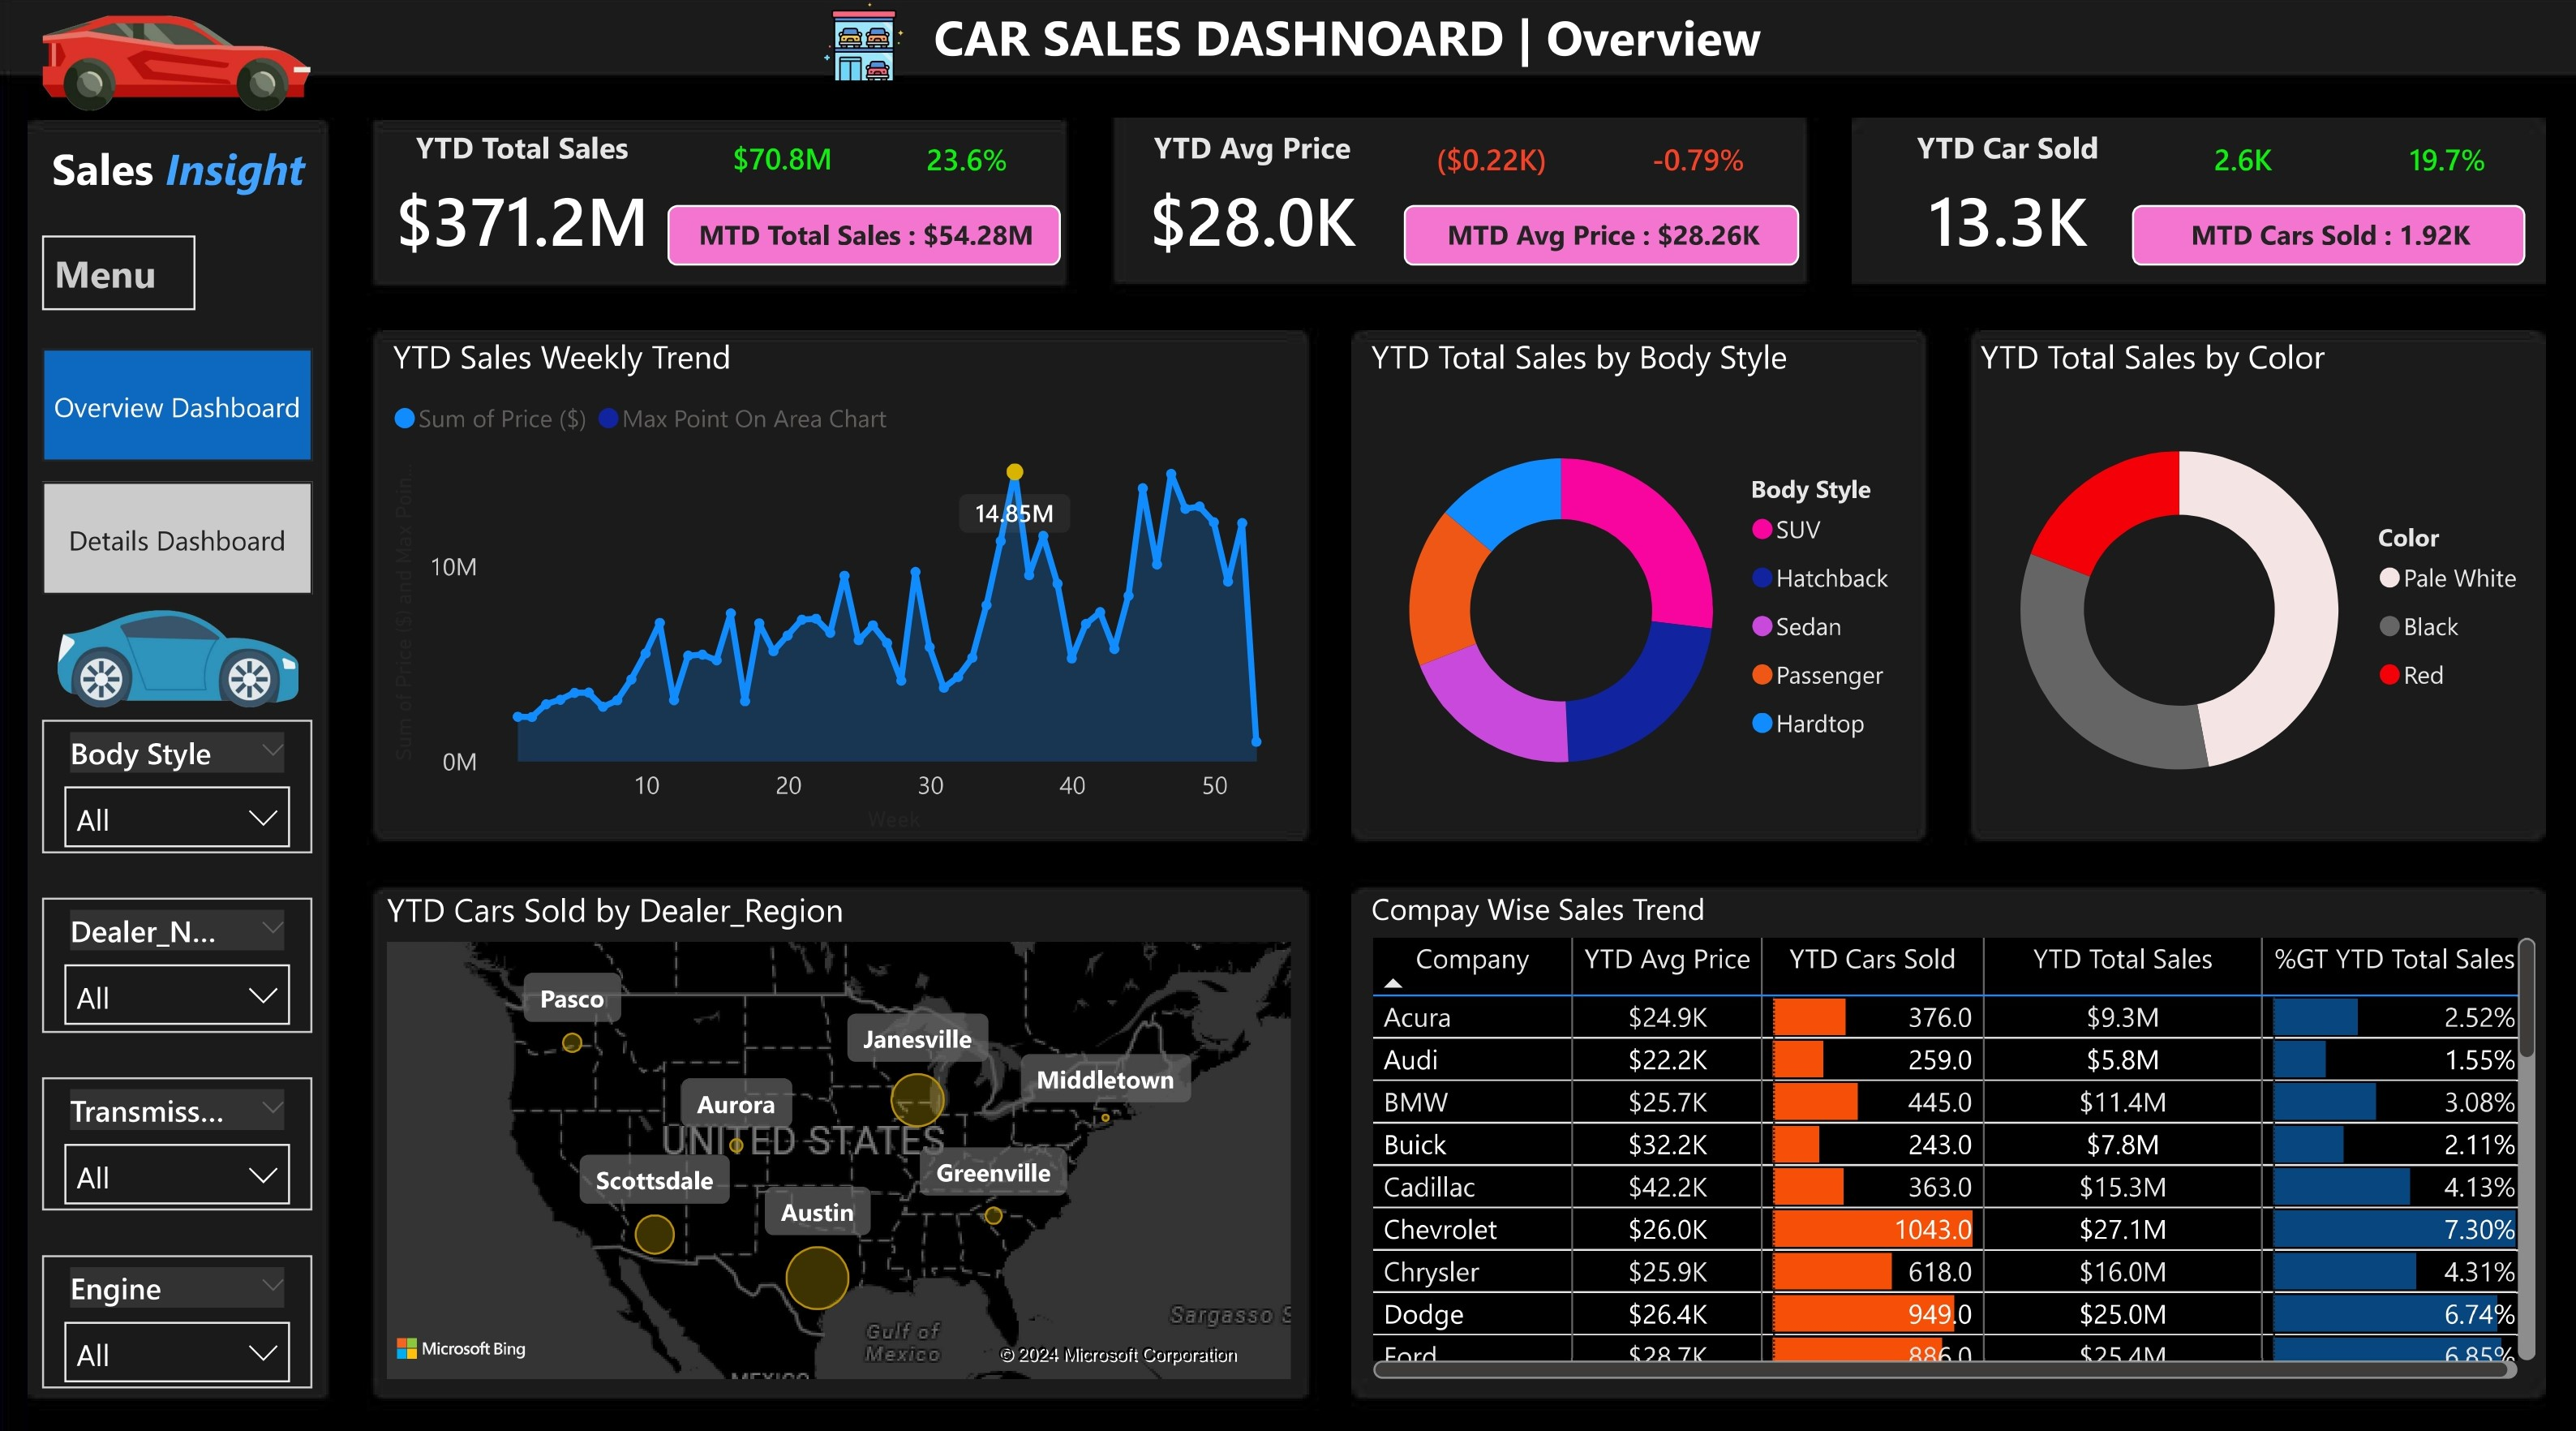

Layout of this report page (visuals, bound fields, positions):
{"tool":"powerbi","page":{"name":"Overview Dashboard","canvas":[1280,720],"ordinal":0},"visuals":[{"type":"card","title":"YTD Total Sales","fields":{"Values":["car_data.YTD Total Sales"]},"box":[188.7,66,144.2,72.8],"z":0},{"type":"card","fields":{"Values":["car_data.Sales Difference"]},"box":[346.3,66,87.6,36.4],"z":1000},{"type":"card","fields":{"Values":["car_data.YoY Sales Growth"]},"box":[442.6,66.3,77.2,36.2],"z":2000},{"type":"card","fields":{"Values":["car_data.MTD KPI"]},"box":[332.9,105.1,195.4,29.6],"z":3000},{"type":"card","title":"YTD Avg Price","fields":{"Values":["car_data.YTD Avg Price"]},"box":[551.2,66,144.2,72.8],"z":4000},{"type":"card","fields":{"Values":["car_data.Avg Price Diff"]},"box":[698.3,66.3,86.8,36.2],"z":5000},{"type":"card","fields":{"Values":["car_data.YoY Avg Price Growth"]},"box":[802,66.3,84.4,36.2],"z":6000},{"type":"card","fields":{"Values":["car_data.MTD Avg Price KPI"]},"box":[698.3,104.9,195.4,30.2],"z":7000},{"type":"card","title":"YTD Car Sold","fields":{"Values":["car_data.YTD Cars Sold"]},"box":[925,66.3,144.7,72.4],"z":8000},{"type":"card","fields":{"Values":["car_data.Cars Sold Diff"]},"box":[1069.7,66.3,88,36.2],"z":9000},{"type":"card","fields":{"Values":["car_data.YoY Cars Sold Growth"]},"box":[1177.1,66.3,77.2,36.2],"z":10000},{"type":"card","fields":{"Values":["car_data.MTD Cars Sold KPI"]},"box":[1058.9,104.9,195.4,30.2],"z":11000},{"type":"areaChart","title":"YTD Sales Weekly Trend","fields":{"Category":["Calender Table.Week"],"Y":["Sum(car_data.Price ($))","car_data.Max Point On Area Chart"]},"box":[192,168.9,454.7,251.2],"z":12000},{"type":"donutChart","fields":{"Category":["car_data.Body Style"],"Y":["car_data.YTD Total Sales"]},"box":[677,168.9,275.7,251.2],"z":13000},{"type":"donutChart","fields":{"Y":["car_data.YTD Total Sales"],"Category":["car_data.Color"]},"box":[978.6,168.9,285.8,251.2],"z":14000},{"type":"map","fields":{"Size":["car_data.YTD Cars Sold"],"Category":["car_data.Dealer_Region"]},"box":[189.1,443.1,457.6,248.3],"z":15000},{"type":"tableEx","title":"Compay Wise Sales Trend","fields":{"Values":["car_data.Company","car_data.YTD Avg Price","car_data.YTD Cars Sold","car_data.YTD Total Sales1","car_data.YTD Total Sales"]},"box":[677,443.1,587.5,248.3],"z":16000},{"type":"textbox","box":[460.4,0,431.6,49.1],"z":17000},{"type":"slicer","fields":{"Values":["car_data.Body Style"]},"box":[23.4,360.1,133.2,65.4],"z":18000},{"type":"slicer","fields":{"Values":["car_data.Dealer_Name"]},"box":[23.4,448.1,133.2,66.6],"z":19000},{"type":"slicer","fields":{"Values":["car_data.Transmission"]},"box":[23.4,537.3,133.2,65.4],"z":20000},{"type":"slicer","fields":{"Values":["car_data.Engine"]},"box":[23.4,625.3,133.2,65.4],"z":21000},{"type":"textbox","box":[13.6,66.6,152.9,45.6],"z":22000},{"type":"textbox","box":[23.4,119.6,75.2,37],"z":22001},{"type":"pageNavigator","box":[23.4,176.4,133.2,122.1],"z":22002},{"type":"image","box":[403.3,0,54.3,49.3],"z":22003},{"type":"image","box":[17.3,0,144.3,66.6],"z":22005},{"type":"image","box":[23.4,298.5,133.2,61.7],"z":22006}]}

Visuals, with their boxes in screenshot pixels (x1, y1, x2, y2), scaled from the page's 1280x720 canvas onto the 2576x1431 screenshot:
"YTD Total Sales" card: locate(380, 131, 670, 276)
card - car_data.Sales Difference: locate(697, 131, 874, 204)
card - car_data.YoY Sales Growth: locate(891, 131, 1046, 204)
card - car_data.MTD KPI: locate(670, 208, 1063, 268)
"YTD Avg Price" card: locate(1110, 131, 1399, 276)
card - car_data.Avg Price Diff: locate(1406, 131, 1580, 204)
card - car_data.YoY Avg Price Growth: locate(1614, 131, 1784, 204)
card - car_data.MTD Avg Price KPI: locate(1406, 208, 1798, 269)
"YTD Car Sold" card: locate(1861, 131, 2153, 276)
card - car_data.Cars Sold Diff: locate(2153, 131, 2330, 204)
card - car_data.YoY Cars Sold Growth: locate(2369, 131, 2524, 204)
card - car_data.MTD Cars Sold KPI: locate(2131, 208, 2524, 269)
"YTD Sales Weekly Trend" areaChart: locate(386, 336, 1302, 835)
donutChart - car_data.Body Style x car_data.YTD Total Sales: locate(1363, 336, 1917, 835)
donutChart - car_data.YTD Total Sales x car_data.Color: locate(1969, 336, 2544, 835)
map - car_data.YTD Cars Sold x car_data.Dealer_Region: locate(380, 881, 1302, 1374)
"Compay Wise Sales Trend" tableEx: locate(1363, 881, 2545, 1374)
textbox: locate(926, 0, 1795, 97)
slicer - car_data.Body Style: locate(47, 715, 316, 845)
slicer - car_data.Dealer_Name: locate(47, 891, 316, 1023)
slicer - car_data.Transmission: locate(47, 1068, 316, 1198)
slicer - car_data.Engine: locate(47, 1243, 316, 1373)
textbox: locate(28, 132, 335, 223)
textbox: locate(47, 238, 199, 312)
pageNavigator: locate(47, 350, 316, 593)
image: locate(812, 0, 921, 98)
image: locate(35, 0, 325, 132)
image: locate(47, 593, 316, 715)
